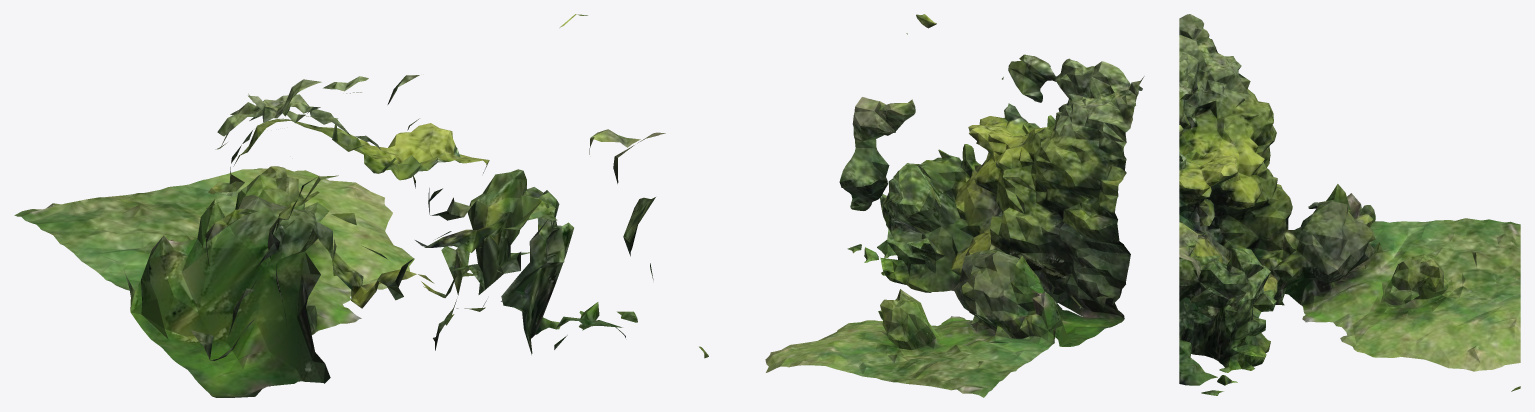
3 renders of one model, left to right at view 1: azimuth 30°, elevation 25°; view 2: azimuth 150°, elevation 25°; view 3: azimuth 270°, elevation 25°, orthographic. The views are drawn at different scales.
Bounding box in the file's own units: 26.11 × 20.38 × 26.11.
Materials: 4 (4 with a texture image).
